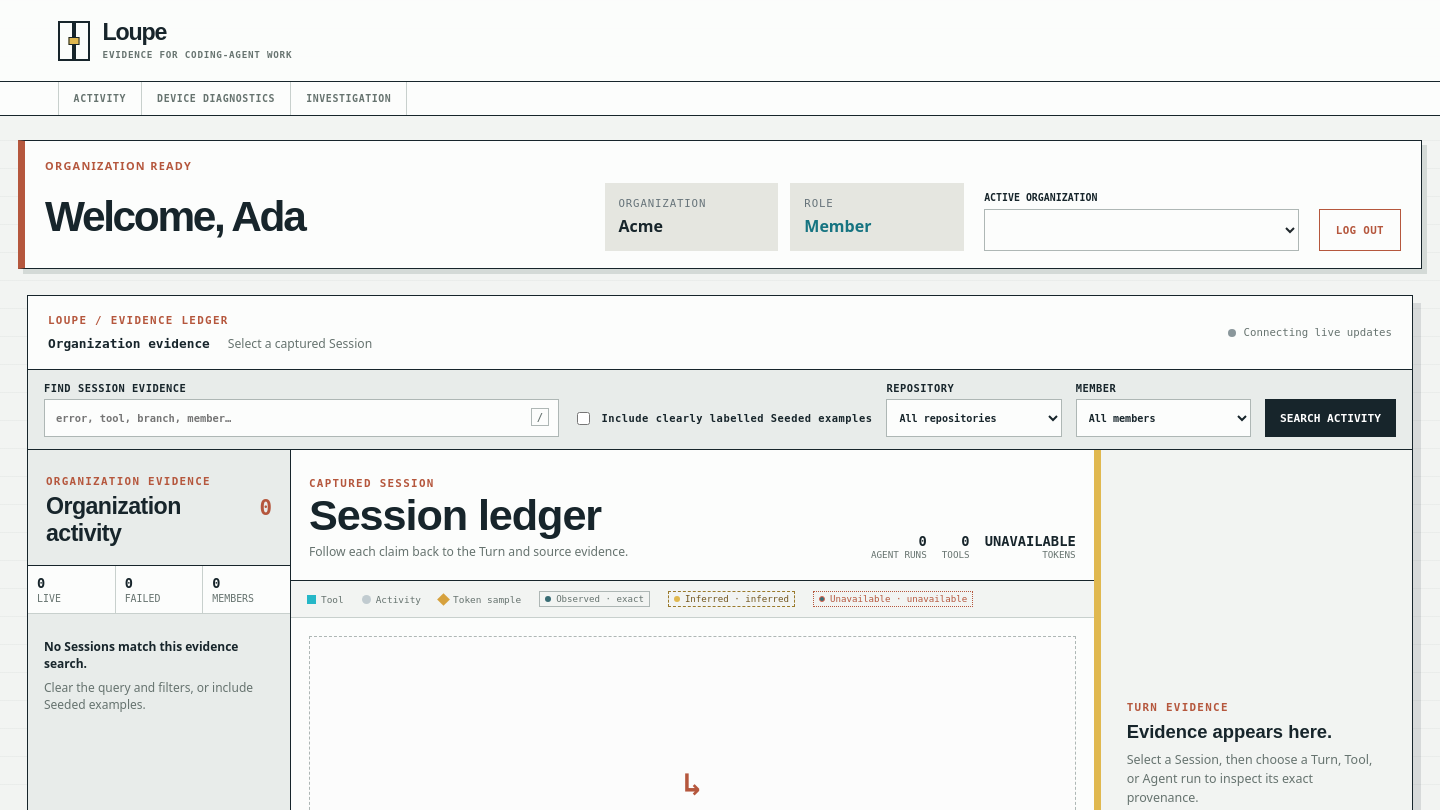
Test: a rejected logout keeps the session visible and retries only logout
Check: the heading "Welcome, Ada" is shown, box [45,193,304,240]
What coordinates should you click on to do the following:
click the button "Log out"
I would click on:
 (1360, 230)
Its box is [1319,209,1401,251].
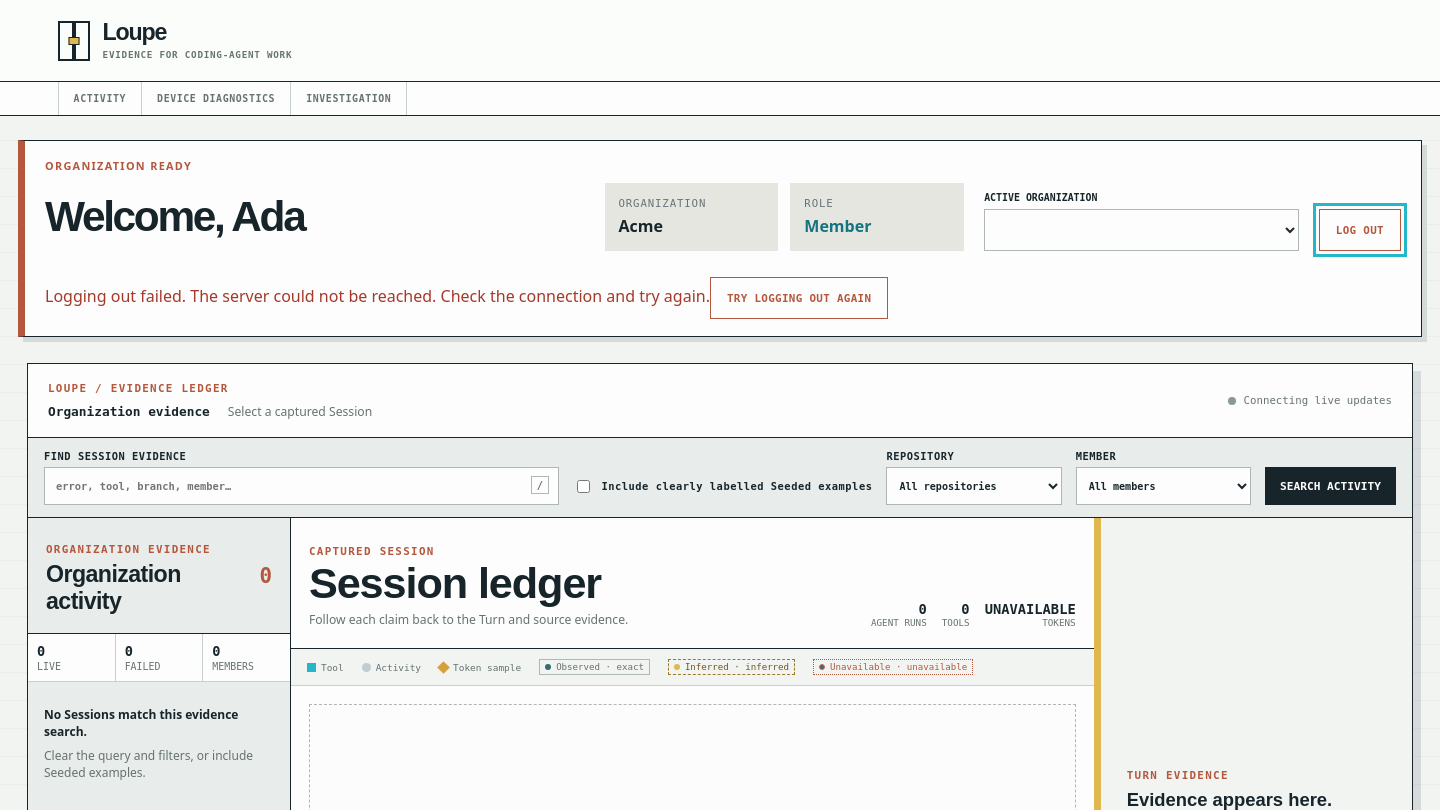
Check: the heading "Welcome, Ada" is shown, box [45,193,304,240]
Check: the 1st message shows "Logging out failed. The server could not be reached. Check the connection and try again.", box [45,284,710,306]
What coordinates should you click on to do the following:
click the button "Try logging out again"
I would click on:
 (799, 298)
Its box is [710,277,888,319].
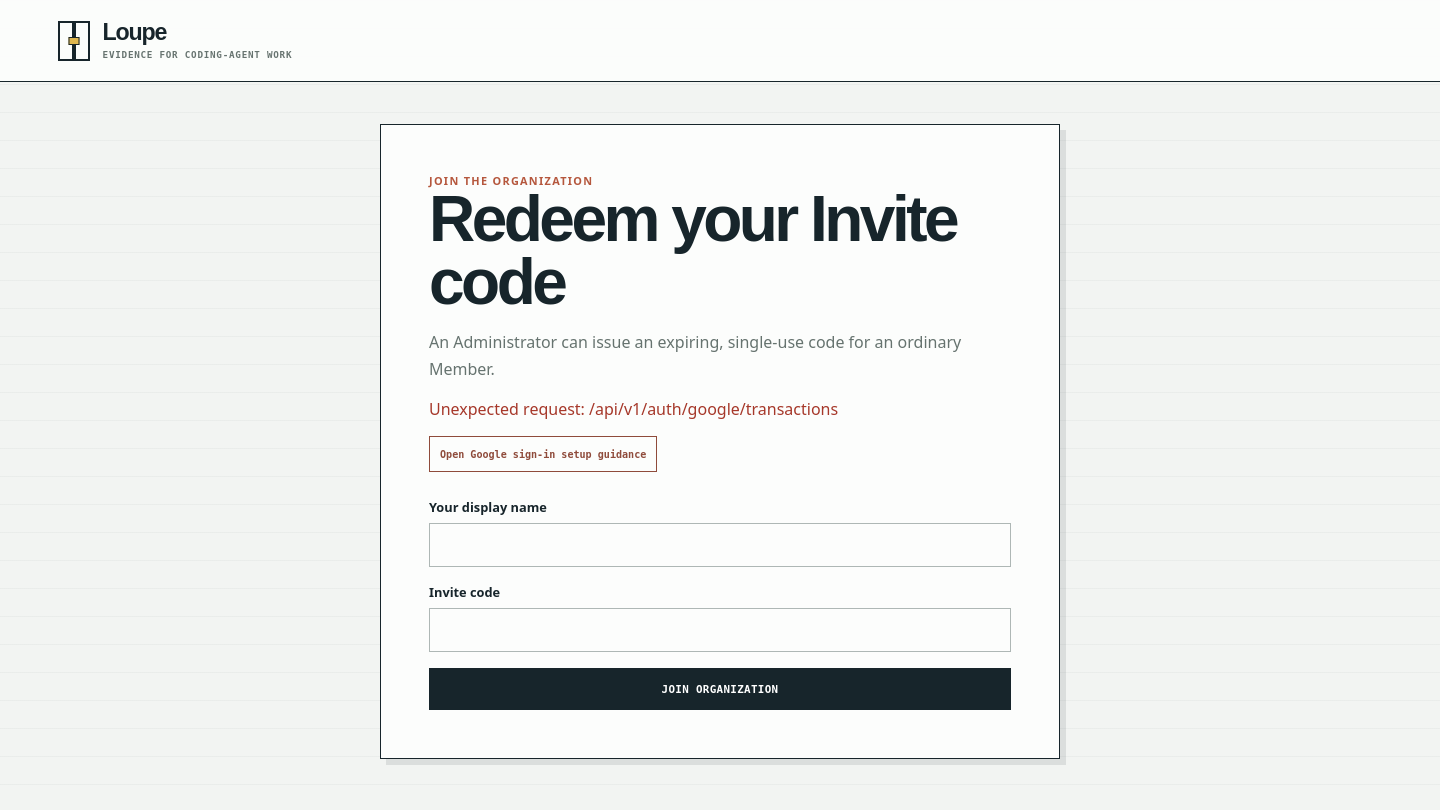
Check: the heading "Redeem your Invite code" is shown, box [429,188,1011,313]
